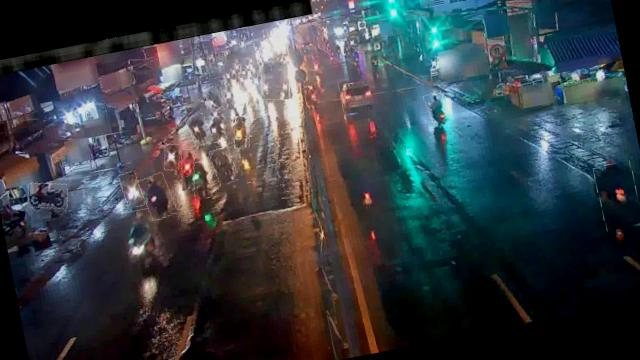Bike: (120, 207, 170, 280), (593, 160, 640, 231), (139, 171, 177, 221), (25, 178, 71, 212), (210, 145, 238, 185), (187, 160, 213, 200), (120, 170, 146, 210), (176, 147, 199, 191), (424, 90, 451, 127), (185, 112, 212, 146), (231, 114, 254, 150), (201, 114, 228, 144), (105, 129, 136, 152), (161, 142, 183, 172), (205, 85, 224, 110), (220, 83, 237, 109)
Bus: (257, 58, 295, 103)
Car: (338, 76, 372, 111)
